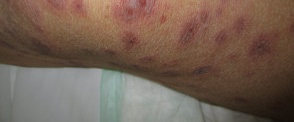SJS-TEN: (95, 0, 294, 121), (0, 0, 91, 66), (109, 0, 172, 54)
